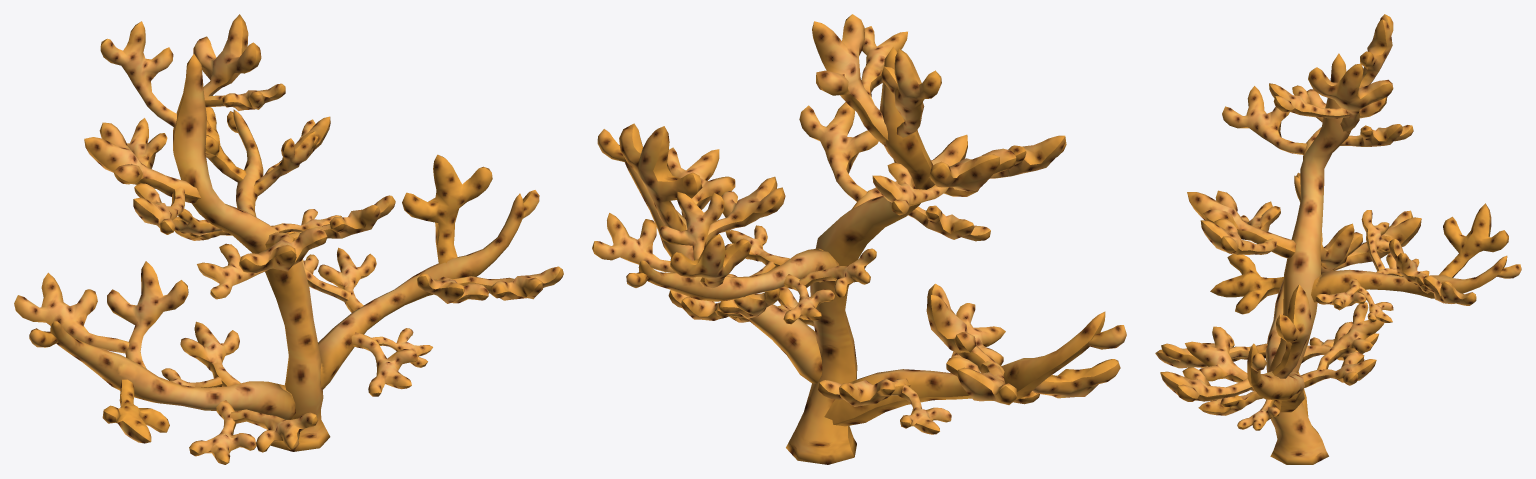
Rendered from SHANH5.fbx.
3 views of the same model, side by side, from view 1: azimuth 30°, elevation 25°; view 2: azimuth 150°, elevation 25°; view 3: azimuth 270°, elevation 25° (orthographic). The views are drawn at different scales.
Visible parts, largest first — view 1: Cartoon_Seaweed_10_2_Cartoon_Seaweed_10_0; view 2: Cartoon_Seaweed_10_2_Cartoon_Seaweed_10_0; view 3: Cartoon_Seaweed_10_2_Cartoon_Seaweed_10_0.
Boxes of the visible parts, x1,y1,x2,y2 form: Cartoon_Seaweed_10_2_Cartoon_Seaweed_10_0: [14, 14, 563, 464]; Cartoon_Seaweed_10_2_Cartoon_Seaweed_10_0: [592, 14, 1126, 464]; Cartoon_Seaweed_10_2_Cartoon_Seaweed_10_0: [1155, 14, 1521, 464].
Size of the model in its own units: 59.21 by 48.78 by 41.58.
